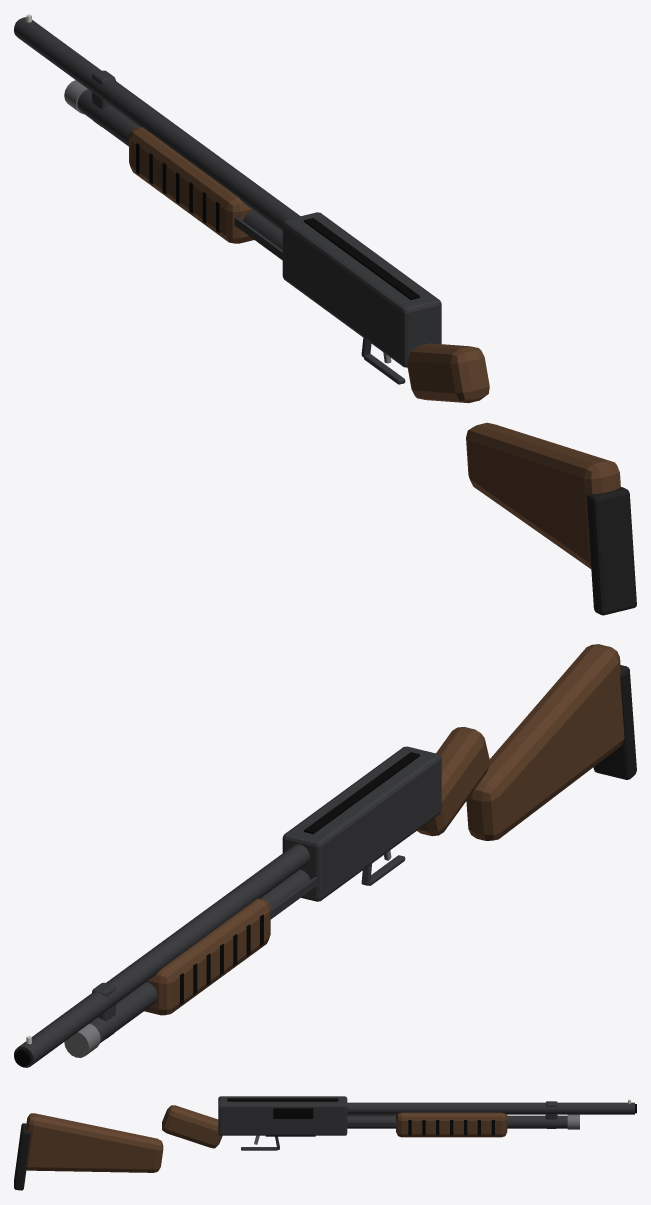
The model's file is shotgun.glb.
3 renders of one model, top to bottom at view 1: azimuth 30°, elevation 25°; view 2: azimuth 150°, elevation 25°; view 3: azimuth 270°, elevation 25°, orthographic. The views are drawn at different scales.
Visible parts, largest first — view 1: part, part.024, part.004, part.025, part.010, part.023, part.006, part.003; view 2: part.024, part, part.004, part.010, part.023, part.006, part.025, part.003, part.007; view 3: part.024, part, part.004, part.010, part.023, part.006, part.025, part.001, part.003, part.019, part.007.
Part boxes in pixels (x1,y1,x2,y2): part: (282, 212, 441, 367); part.024: (466, 422, 620, 568); part.004: (14, 17, 300, 231); part.025: (586, 487, 636, 615); part.010: (129, 127, 253, 243); part.023: (407, 343, 489, 403); part.006: (77, 89, 282, 249); part.003: (304, 218, 419, 299); part.024: (466, 644, 624, 840); part: (282, 746, 441, 901); part.004: (14, 844, 309, 1067); part.010: (144, 898, 270, 1015); part.023: (417, 727, 489, 836); part.006: (89, 869, 310, 1042); part.025: (593, 665, 636, 779); part.003: (304, 752, 419, 834); part.007: (64, 1023, 100, 1057); part.024: (26, 1113, 163, 1172); part: (218, 1096, 347, 1135); part.004: (347, 1102, 634, 1114); part.010: (396, 1112, 507, 1137); part.023: (162, 1105, 222, 1148); part.006: (347, 1115, 567, 1128); part.025: (14, 1123, 30, 1190); part.001: (273, 1108, 313, 1118); part.003: (227, 1098, 338, 1101); part.019: (346, 1122, 397, 1126); part.007: (567, 1114, 579, 1129).
Size of the model in its own units: 0.0485 by 0.1732 by 1.12.
